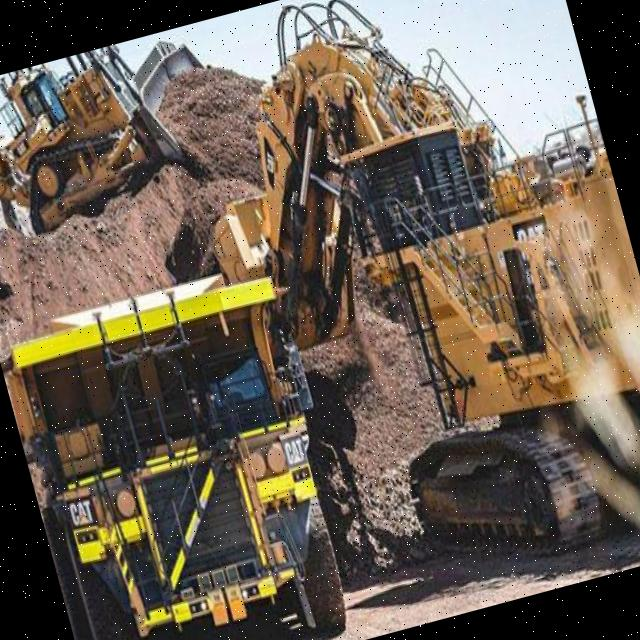Bulldozer: (0, 25, 232, 272)
Dump Truck: (0, 236, 387, 640)
Excavator: (157, 0, 640, 640)
